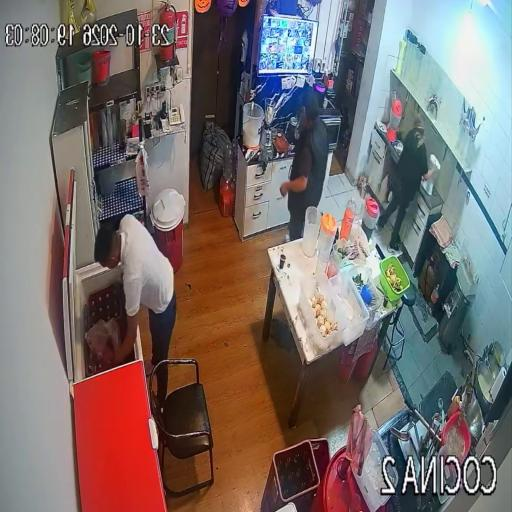Balde: (242, 102, 264, 149)
CajaCerveza: (261, 439, 330, 512), (84, 283, 126, 374)
Envase Llajua: (448, 395, 460, 418)
Jarra1: (362, 197, 379, 239)
Jarra2: (316, 213, 337, 263)
Jarra3: (302, 206, 321, 257)
Licuadora: (286, 117, 299, 146)
Licuadora2: (262, 98, 275, 152)
Microondas: (320, 109, 342, 149)
Persona1: (280, 92, 329, 240)
Persona2: (379, 119, 431, 250)
Persona3: (94, 214, 176, 372), (156, 365, 168, 403)
Taper: (380, 256, 410, 302)
Taper2: (347, 268, 381, 329)
Taper3: (330, 273, 369, 345)
Taper4: (299, 274, 347, 357)
Taper5: (354, 430, 398, 512)
